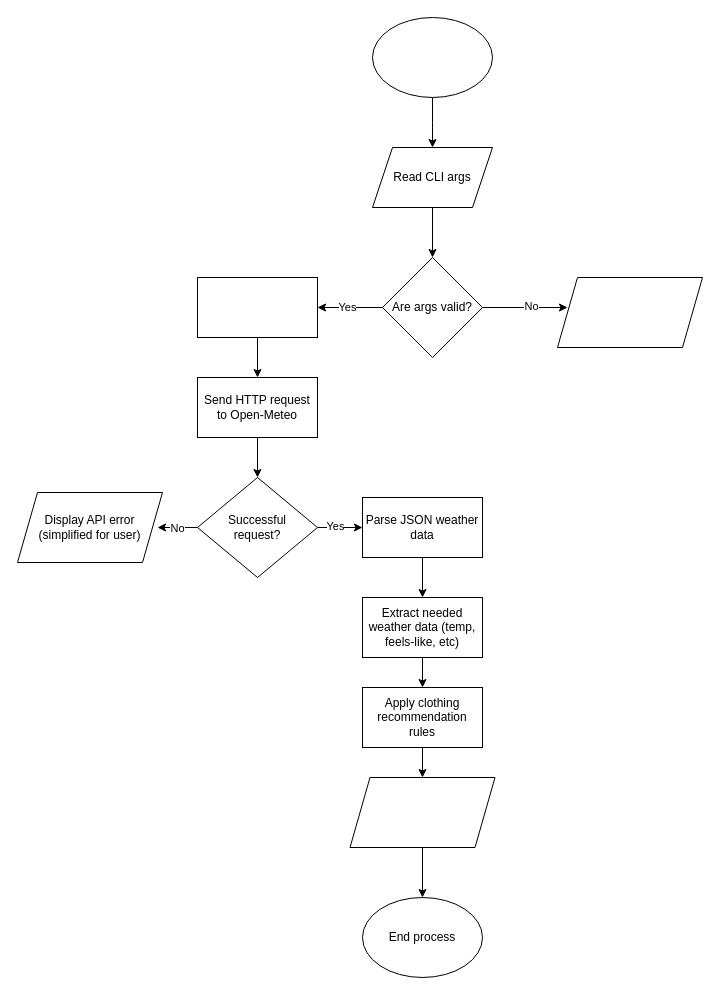
This 720x995 diagram has some shape labels left out. The centre of each missing label's shape, as x and y in pixels:
"Construct Open-Meteo API req" goes at [257,307].
"Display invalid args + expected" goes at [629,312].
"Display weather forecast + recommendations" goes at [422,812].
"User runs application" goes at [432,57].
